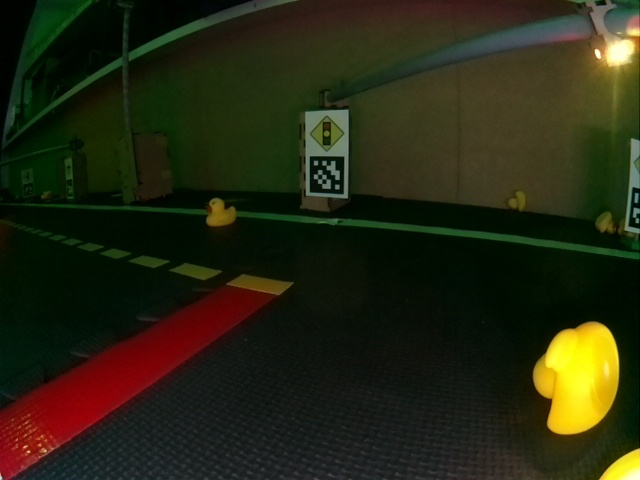Duckie: (534, 323, 619, 435), (206, 198, 236, 226), (509, 191, 526, 210)
QR code: (308, 157, 344, 196)
Signal sign: (307, 114, 344, 152)
Traffic light: (584, 3, 630, 66)
